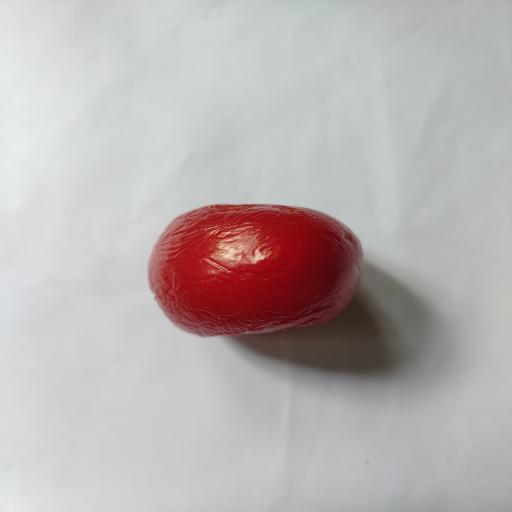spoiled: (149, 204, 362, 336)
